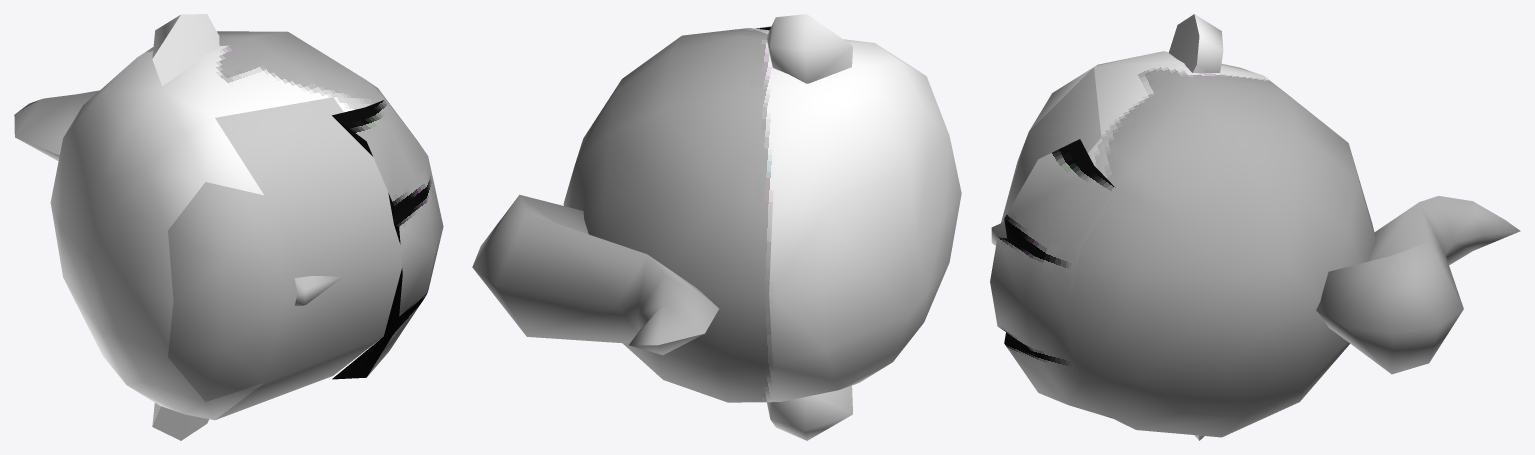
Rendered from girl04a.dae.
The picture shows the model from 3 angles, left to right: view 1: azimuth 30°, elevation 25°; view 2: azimuth 150°, elevation 25°; view 3: azimuth 270°, elevation 25°; orthographic projection.
Visible parts, largest first — view 1: vsn_mesh_1_, vsn_mesh_2_, vsn_mesh_0_; view 2: vsn_mesh_1_; view 3: vsn_mesh_1_, vsn_mesh_2_.
Boxes of the visible parts, x1,y1,x2,y2 form: vsn_mesh_1_: (14,14,443,440); vsn_mesh_2_: (215,97,402,419); vsn_mesh_0_: (168,182,287,401); vsn_mesh_1_: (472,14,961,440); vsn_mesh_1_: (990,14,1520,440); vsn_mesh_2_: (991,67,1101,245).
Size of the model in its own units: 21.34 by 26.71 by 30.49.
